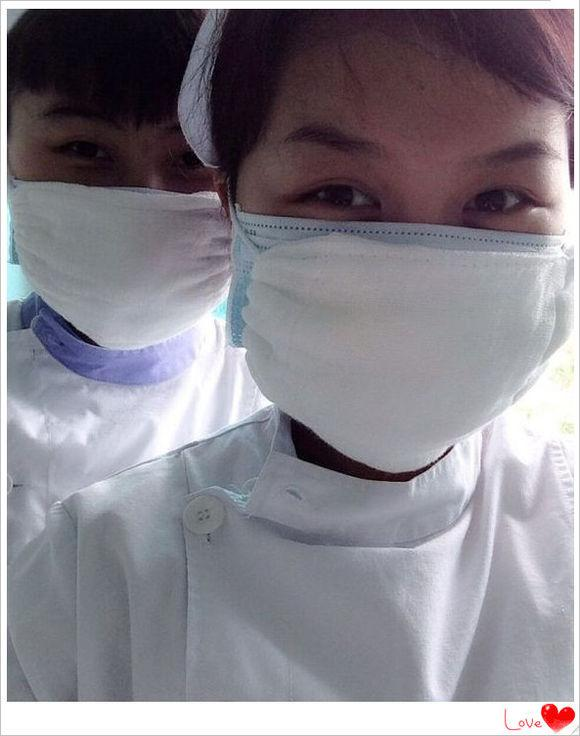OK: (234, 77, 571, 465), (8, 61, 235, 344)
